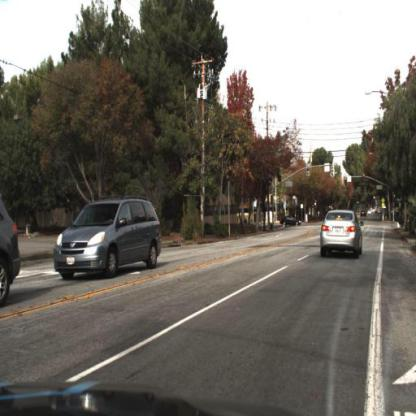car: (46, 184, 162, 288), (312, 194, 369, 276), (317, 208, 366, 260), (0, 193, 21, 313), (274, 212, 304, 235), (278, 211, 302, 228)
trafficLight-Red: (340, 168, 348, 186), (390, 186, 398, 204), (361, 168, 367, 186)
